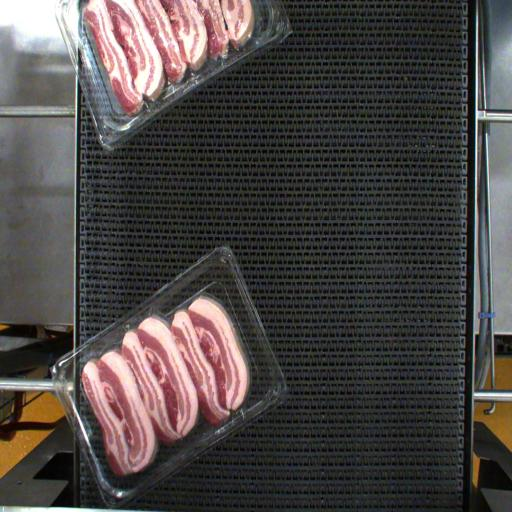unsealed: (76, 288, 255, 449)
